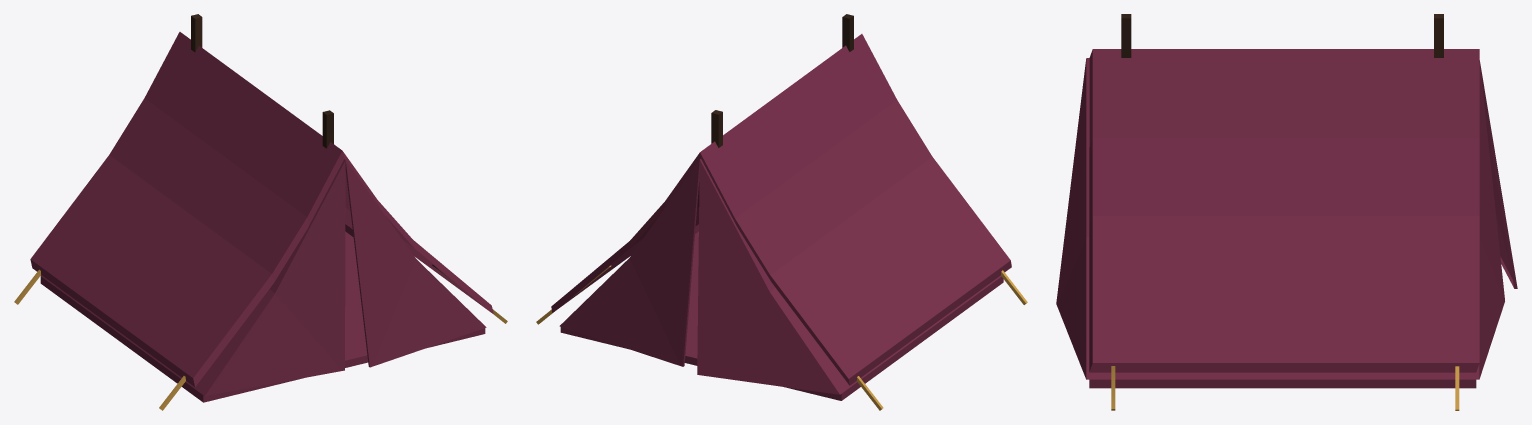
Rendered from tent_qff.glb.
3 renders of one model, left to right at view 1: azimuth 30°, elevation 25°; view 2: azimuth 150°, elevation 25°; view 3: azimuth 270°, elevation 25°, orthographic. The views are drawn at different scales.
Visible parts, largest first — view 1: Tent_QFF; view 2: Tent_QFF; view 3: Tent_QFF.
Boxes of the visible parts, bbox=[...] form: Tent_QFF: bbox=[14, 14, 507, 410]; Tent_QFF: bbox=[536, 14, 1027, 410]; Tent_QFF: bbox=[1056, 14, 1517, 410].
Size of the model in its own units: 2.46 by 1.71 by 2.39.
